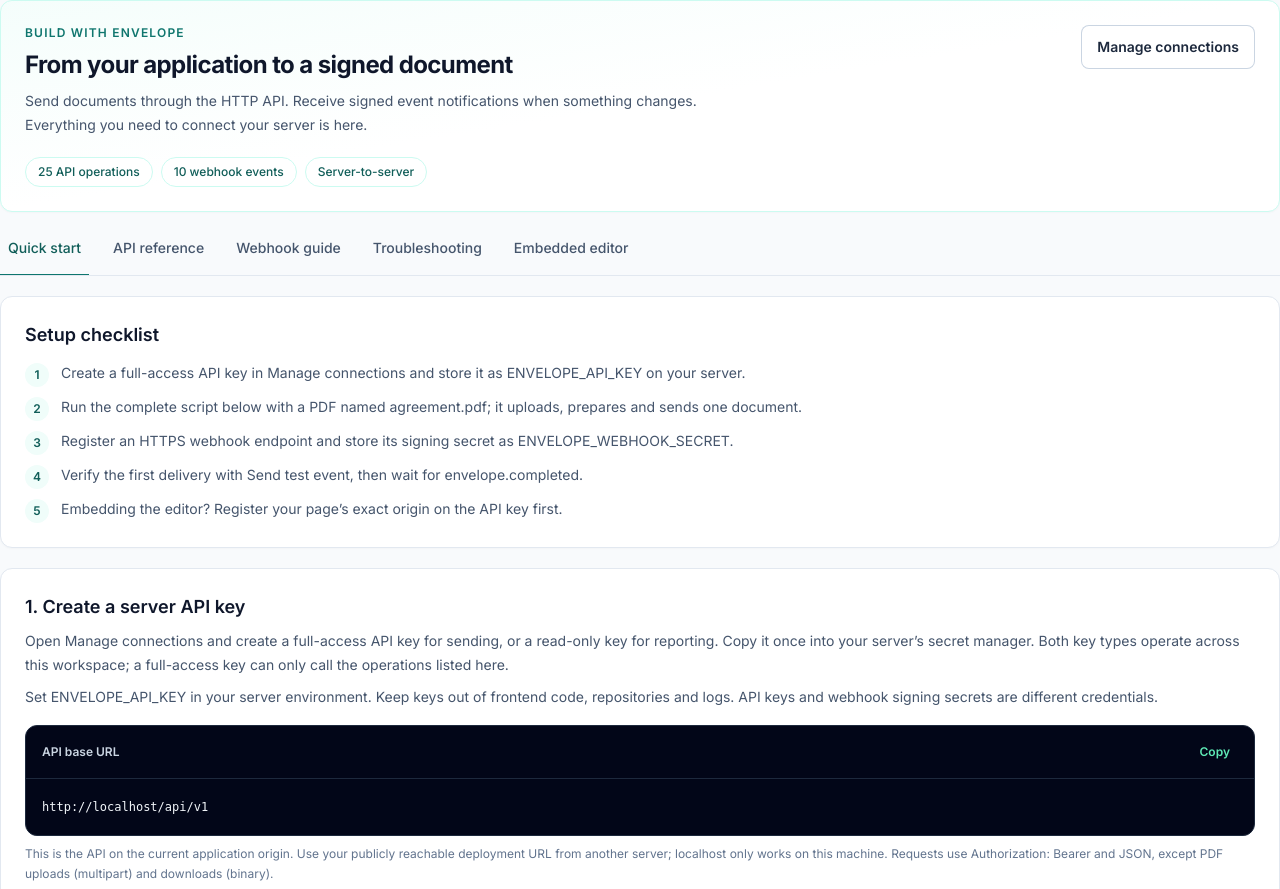
Test: integration guide › shows the hosted SDK and the session operations in the embedded editor guide
Click the tab "Embedded editor": (571, 254) 506,232 -> 636,276
(page scrolled)
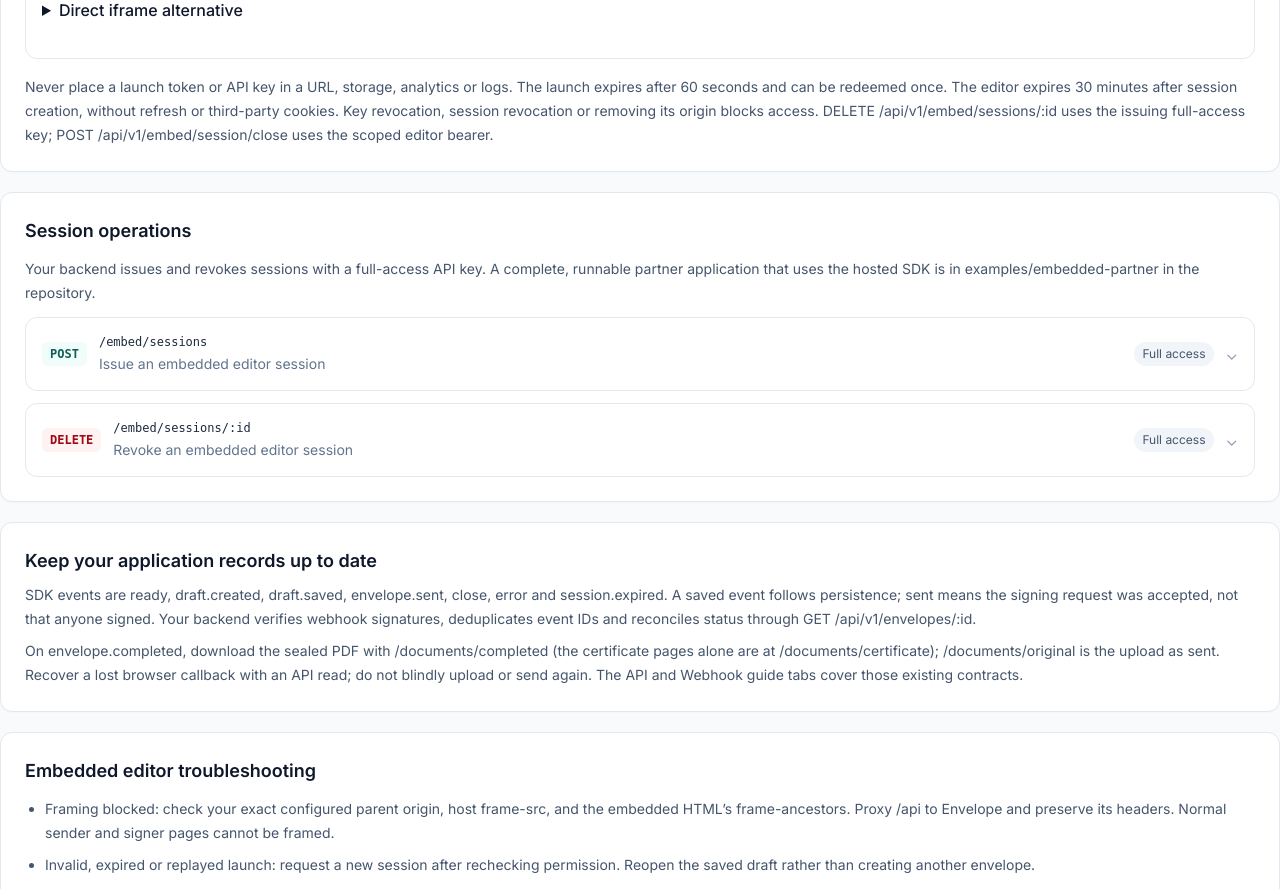
Expected: the text "Issue an embedded editor session" is shown, 99,355 -> 325,372
Expected: the text "Revoke an embedded editor session" is shown, 113,441 -> 353,458
